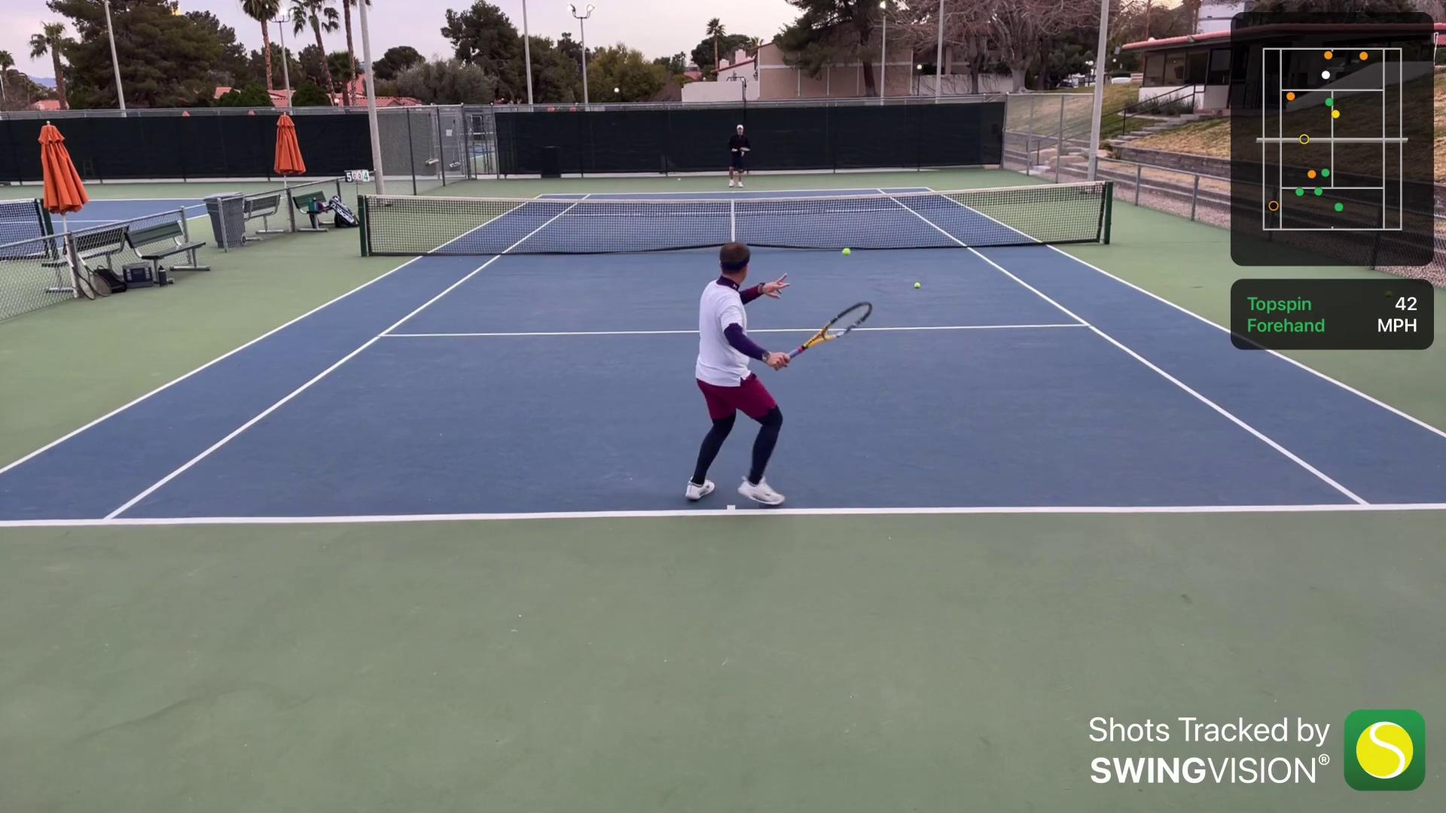ball: (841, 244, 853, 259), (910, 278, 921, 292)
